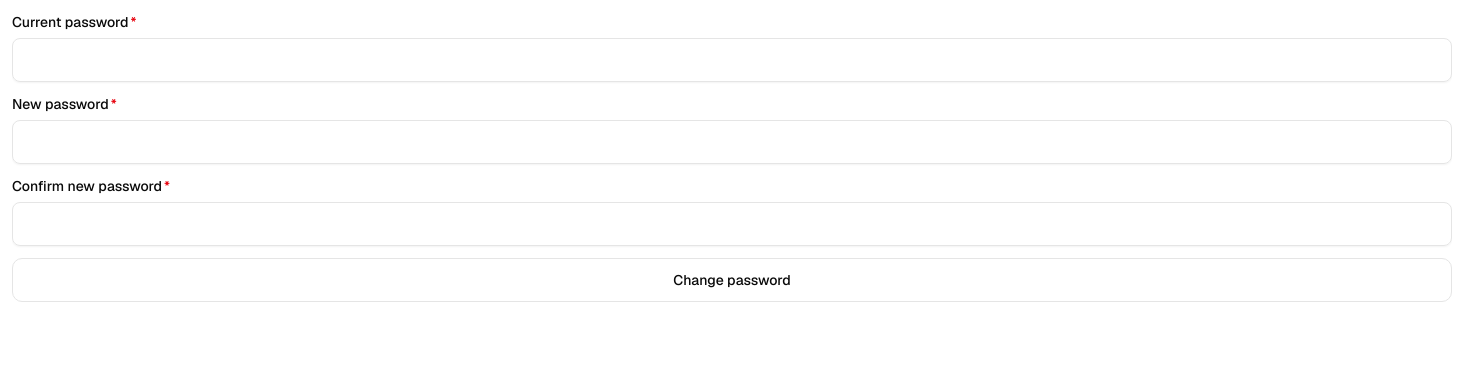
Test: ChangePasswordForm › shows a match error when new and confirm passwords differ
In the password field labelled "Current password*": (732, 60) [12, 38, 1452, 82], type "oldpass1"
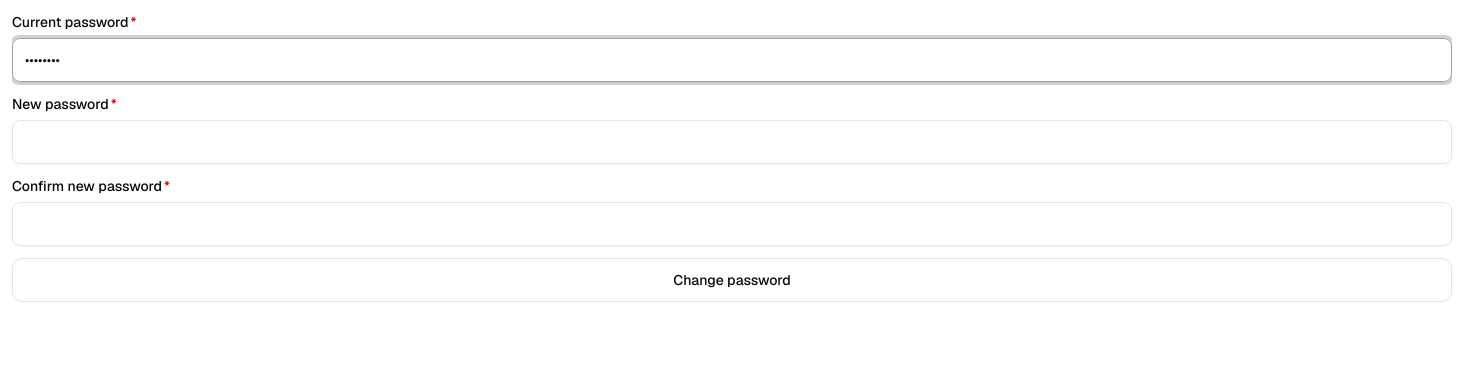
In the password field labelled "New password*": (732, 142) [12, 120, 1452, 164], type "newpass1"
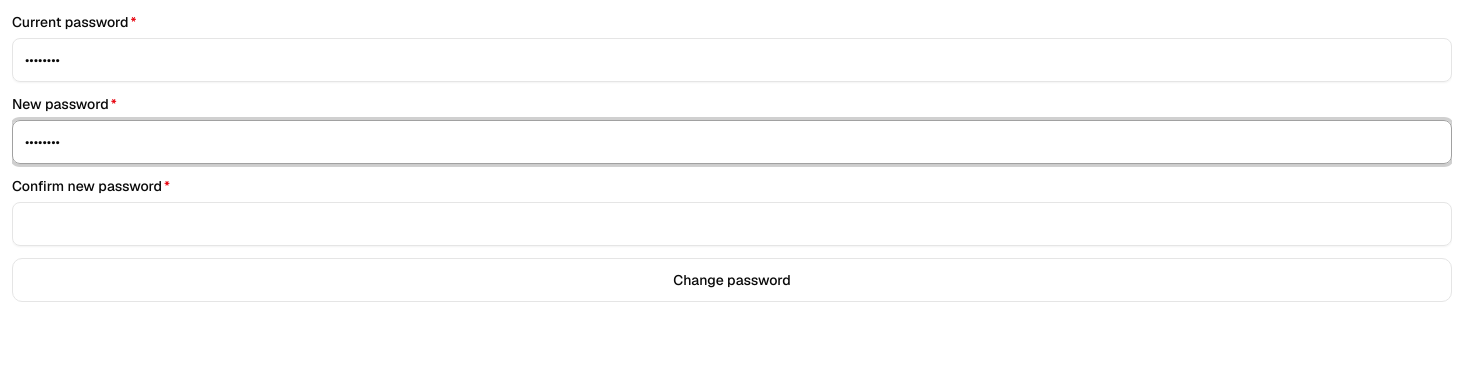
In the password field labelled "Confirm new password*": (732, 224) [12, 202, 1452, 246], type "different1"
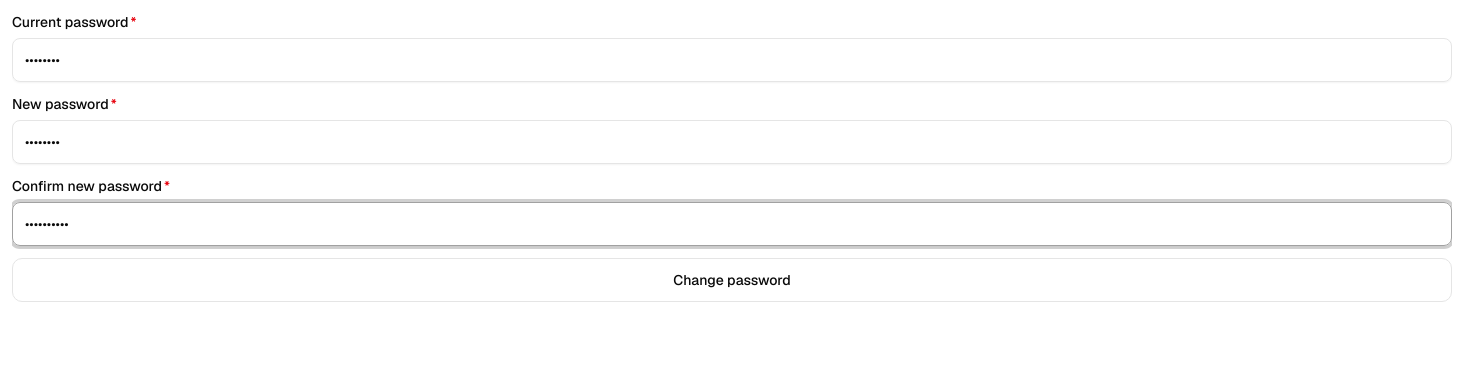
Click the button "Change password": (732, 280) [12, 258, 1452, 302]
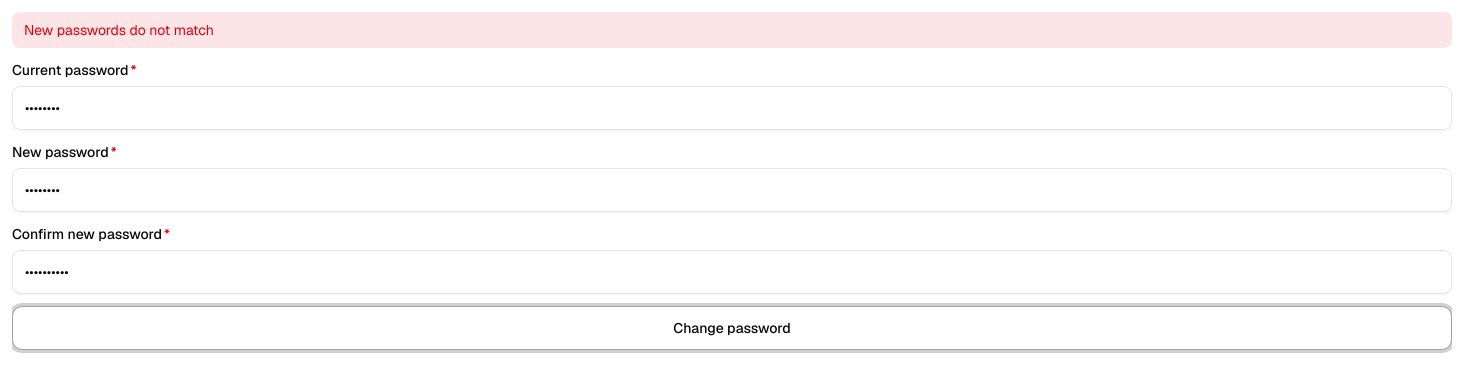
expect the message shows "do not match": met, box [24, 21, 214, 39]
